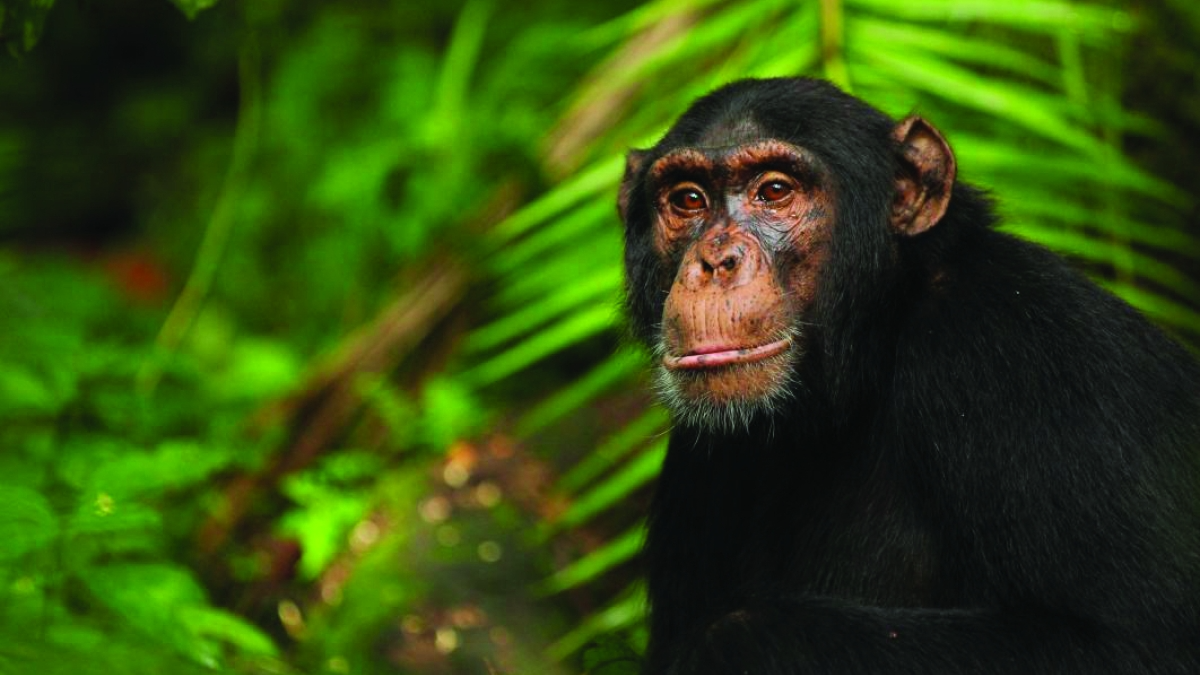Champanze: (603, 66, 989, 658)
